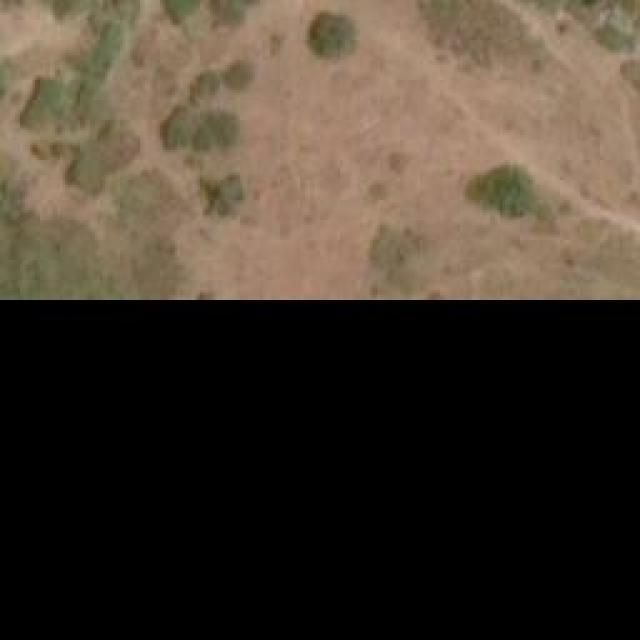Tree: (70, 123, 135, 188), (468, 165, 538, 218), (158, 105, 231, 150), (592, 10, 637, 57), (25, 75, 63, 130), (310, 15, 353, 58), (213, 0, 263, 25), (213, 177, 243, 215), (193, 70, 216, 103), (228, 60, 253, 90)
